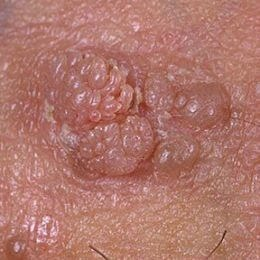Warts: (33, 26, 242, 194)
